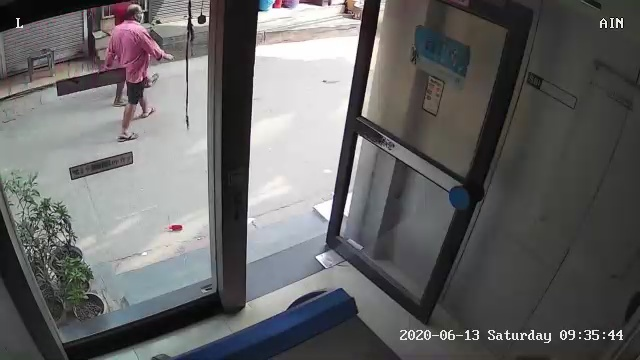open: (196, 4, 541, 344)
